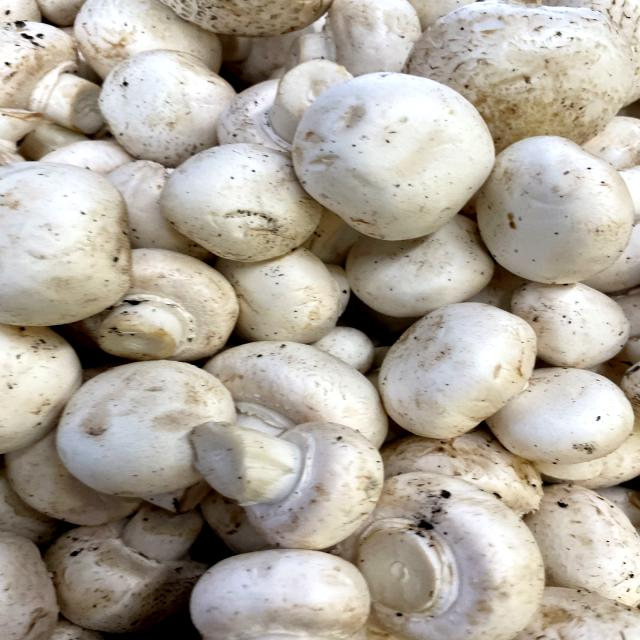mushroom: (268, 67, 515, 249), (345, 457, 563, 640), (180, 402, 405, 557), (369, 291, 543, 448), (72, 241, 244, 370)
